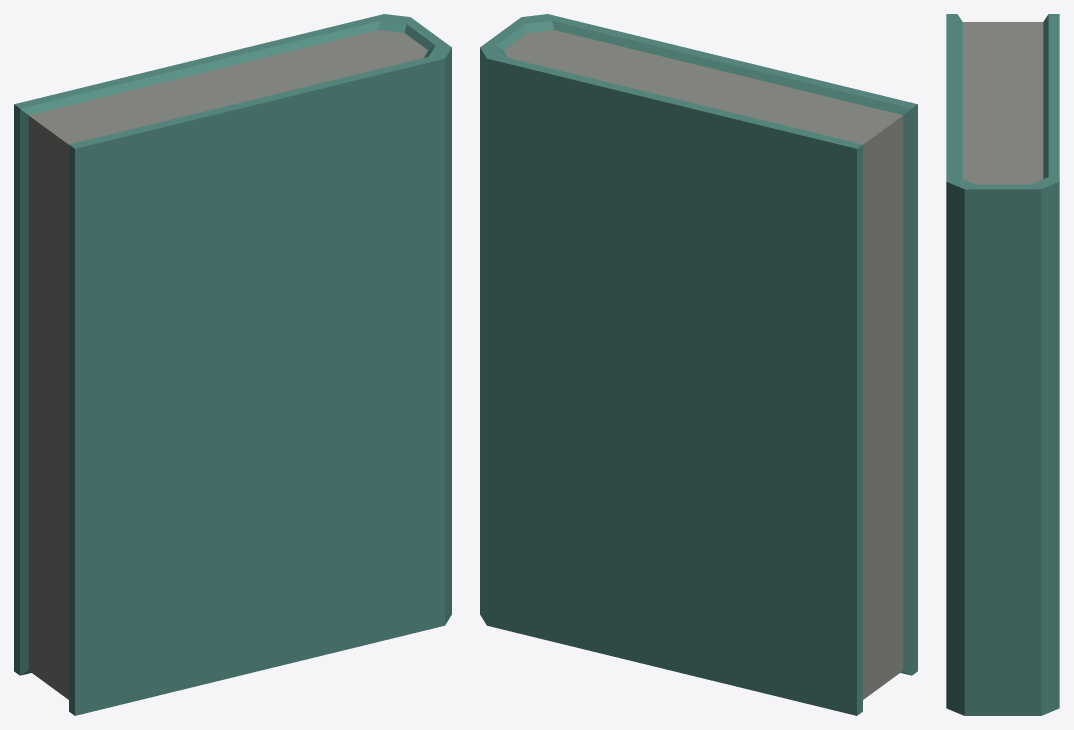
The model's file is Book.002.fbx.
3 views of the same model, side by side, from view 1: azimuth 30°, elevation 25°; view 2: azimuth 150°, elevation 25°; view 3: azimuth 270°, elevation 25° (orthographic). The views are drawn at different scales.
Parts seen in each view (by area): view 1: Book.002; view 2: Book.002; view 3: Book.002.
Part boxes in pixels (left/top/right/bottom): Book.002: left=14, top=14, right=451, bottom=715; Book.002: left=480, top=14, right=917, bottom=715; Book.002: left=946, top=14, right=1059, bottom=715.
Size of the model in its own units: 23.4 by 32.79 by 6.39.
